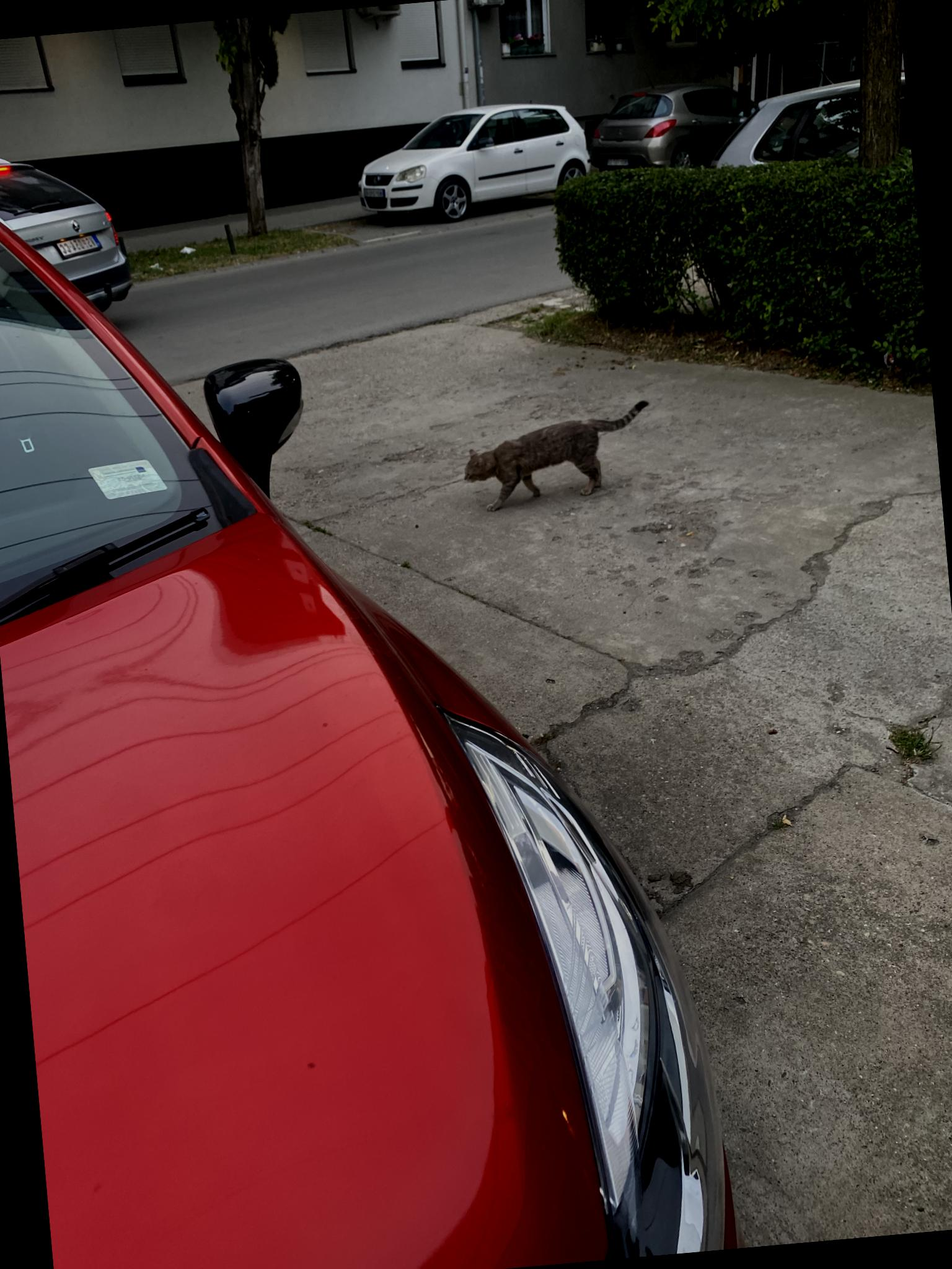macka: (458, 402, 656, 515)
